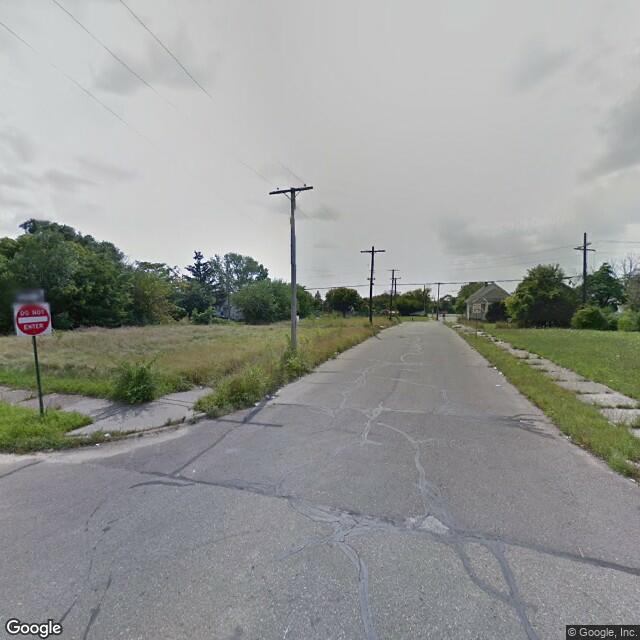litter: (265, 392, 273, 401), (92, 441, 102, 448), (253, 400, 260, 408), (103, 431, 110, 438), (494, 382, 502, 388), (492, 364, 498, 369)
